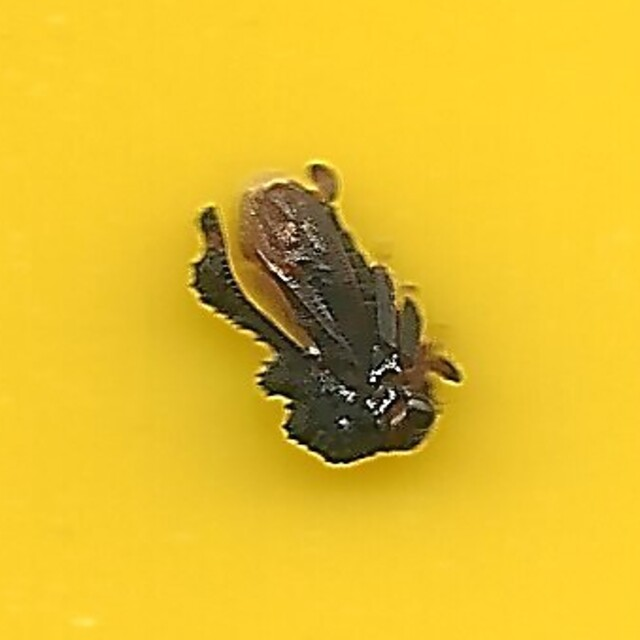Hemiptera: (189, 174, 451, 466)
